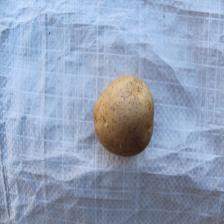Diseased-fungal potato: (91, 72, 157, 158)
